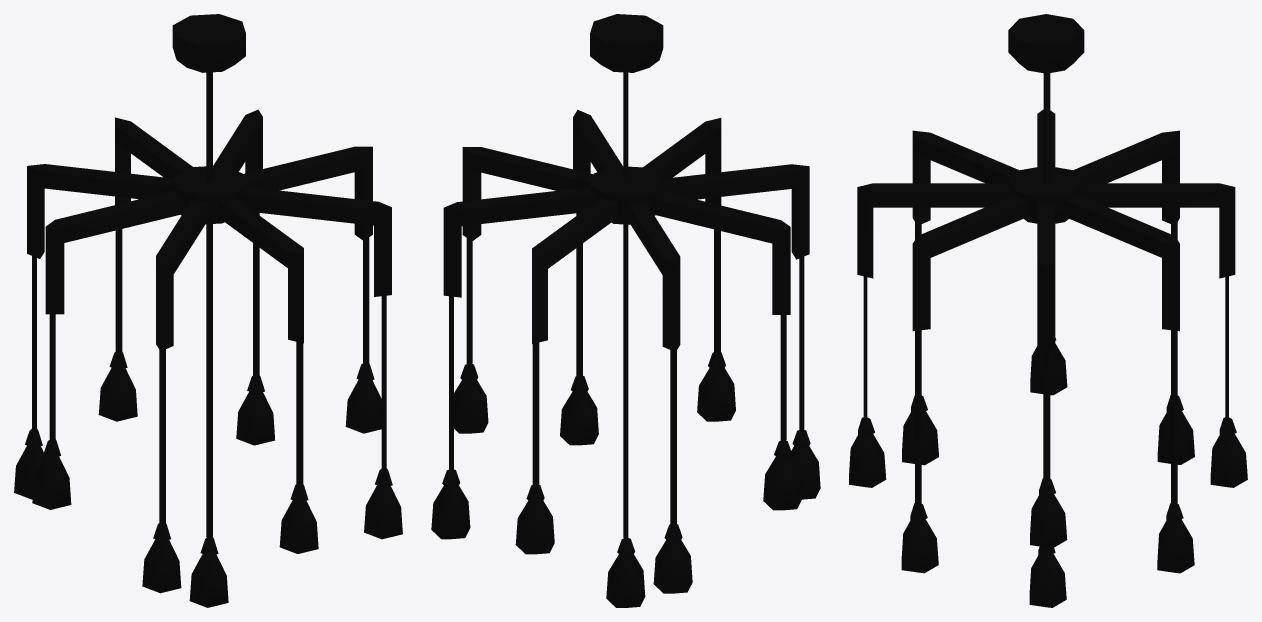
File: ChandelierB_Off.glb
The picture shows the model from 3 angles, left to right: view 1: azimuth 30°, elevation 25°; view 2: azimuth 150°, elevation 25°; view 3: azimuth 270°, elevation 25°; orthographic projection.
Parts seen in each view (by area): view 1: modernChandelier_off; view 2: modernChandelier_off; view 3: modernChandelier_off.
Boxes of the visible parts, x1,y1,x2,y2 form: modernChandelier_off: [14, 14, 402, 607]; modernChandelier_off: [431, 14, 820, 607]; modernChandelier_off: [849, 14, 1247, 607].
Bounding box in the file's own units: 1.29 × 2.06 × 1.29.
Materials: 1 (1 with a texture image).
